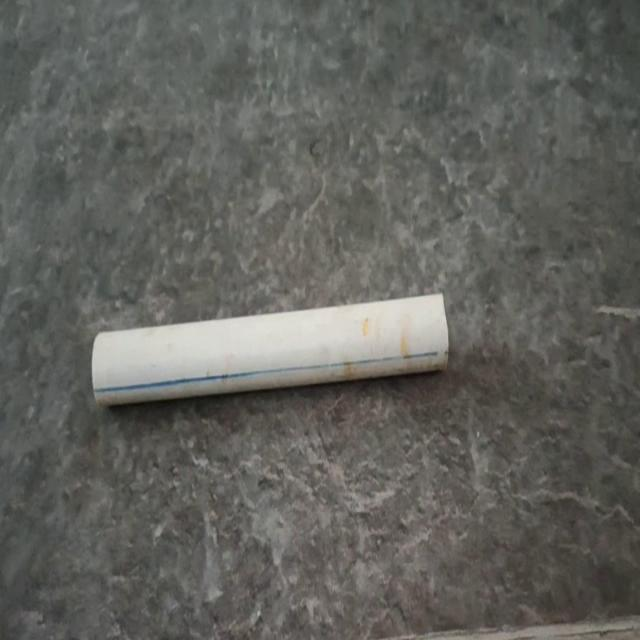Cube: (90, 290, 450, 408)
